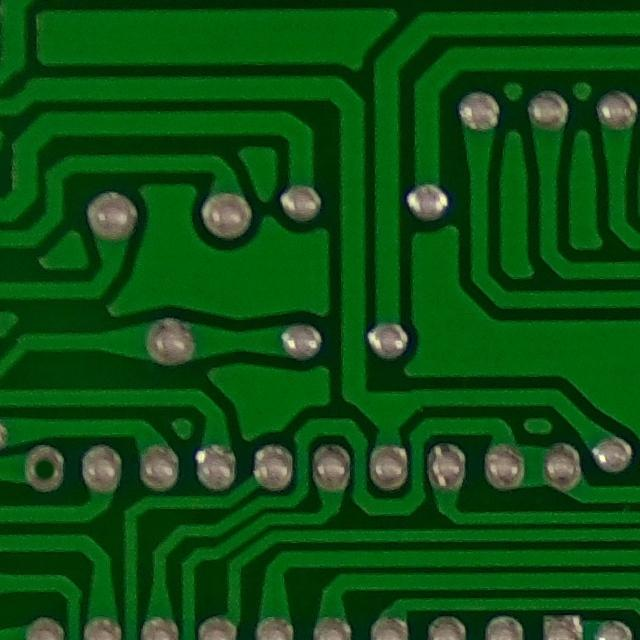missing_hole: (13, 436, 75, 504)
